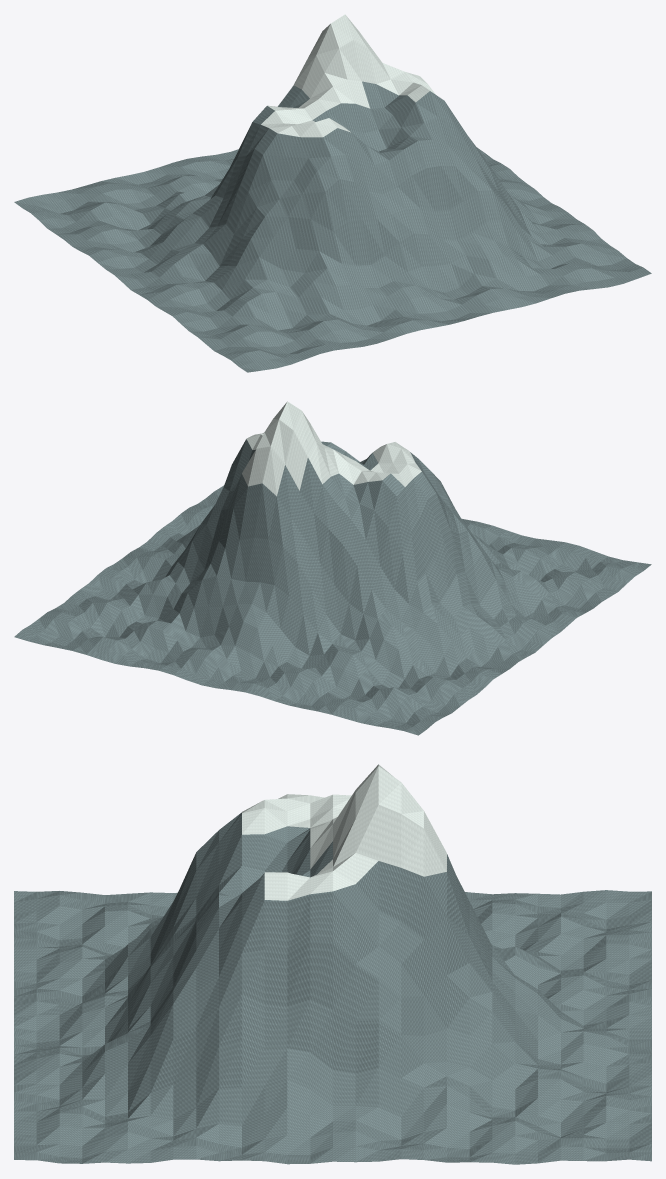
The model's file is distant_snow_mountain_01.glb.
3 renders of one model, top to bottom at view 1: azimuth 30°, elevation 25°; view 2: azimuth 150°, elevation 25°; view 3: azimuth 270°, elevation 25°, orthographic. The views are drawn at different scales.
Visible parts, largest first — view 1: massif, snow_peak; view 2: massif, snow_peak; view 3: massif, snow_peak.
Boxes of the visible parts, left/top/right/bottom form: massif: left=14, top=81, right=651, bottom=372; snow_peak: left=261, top=14, right=435, bottom=137; massif: left=14, top=439, right=651, bottom=735; snow_peak: left=242, top=401, right=421, bottom=496; massif: left=14, top=812, right=651, bottom=1164; snow_peak: left=242, top=764, right=446, bottom=900.
Size of the model in its own units: 220 by 112 by 220.
2 materials, 2 textured.
